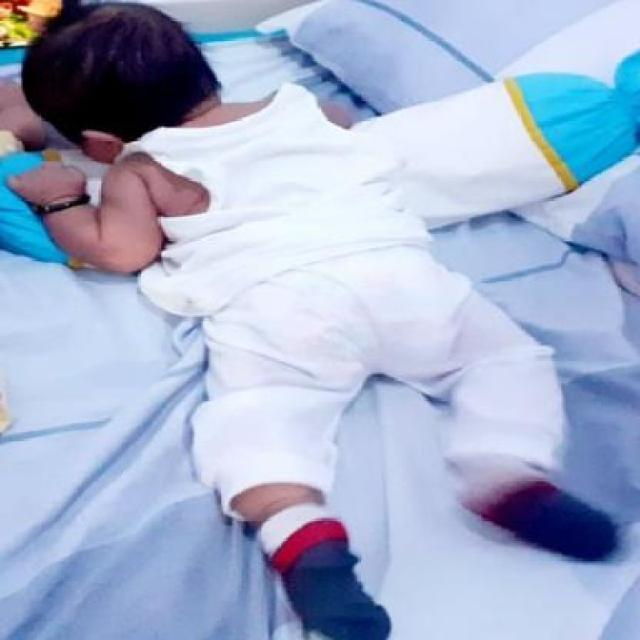non-dog: (2, 3, 630, 632)
